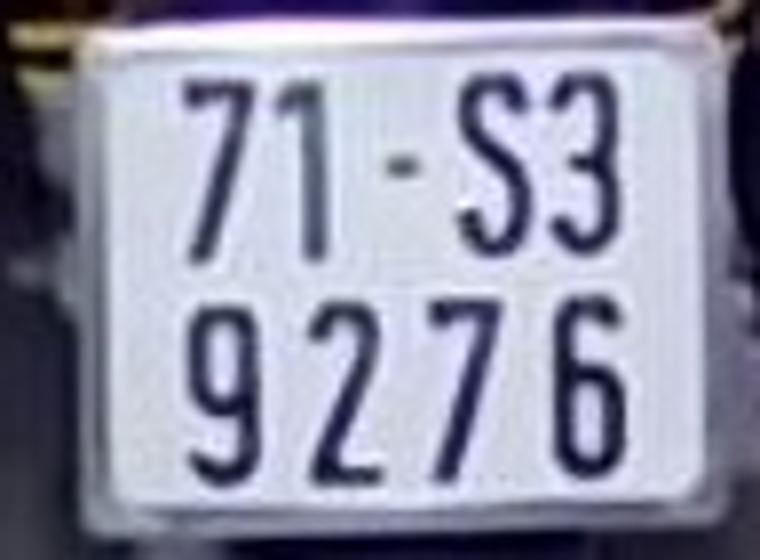-: (378, 142, 430, 191)
1: (263, 65, 343, 272)
2: (304, 297, 392, 492)
3: (543, 60, 626, 260)
6: (550, 288, 634, 483)
7: (419, 289, 512, 490), (170, 70, 259, 271)
9: (180, 301, 271, 491)
S: (447, 59, 540, 259)
